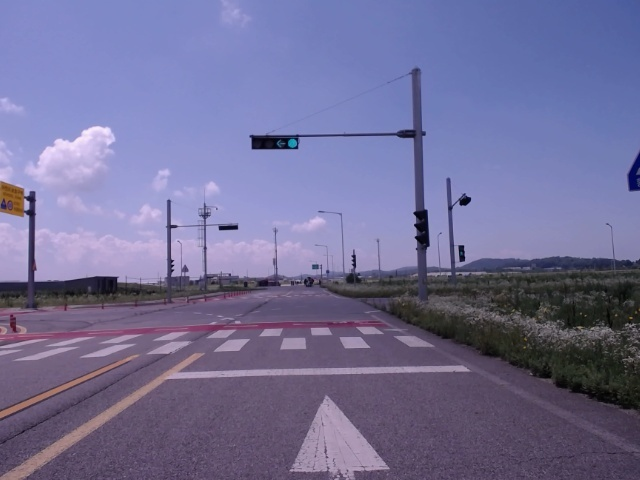all_green_4: (249, 137, 304, 148)
